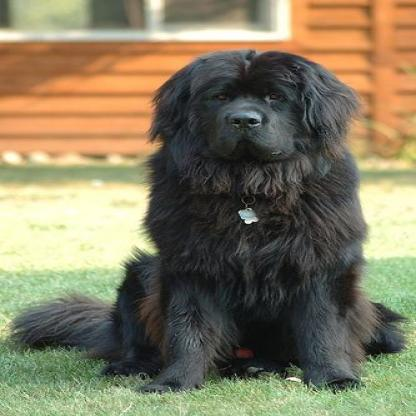Newfoundland: (7, 49, 405, 392)
